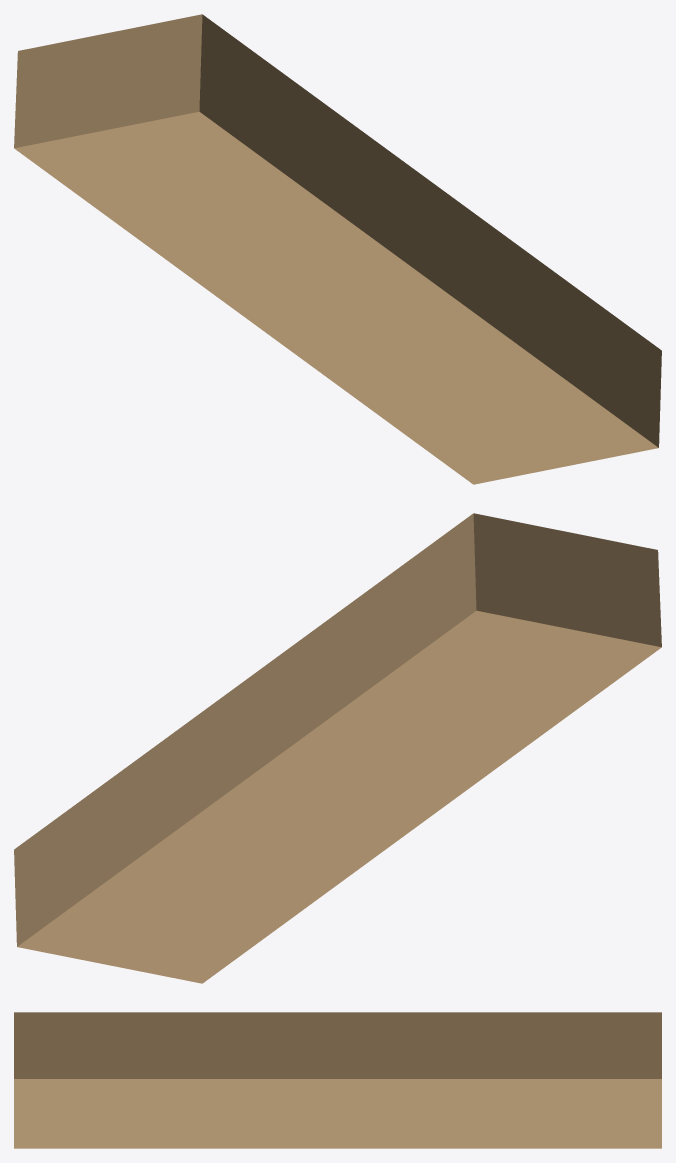
The picture shows the model from 3 angles, top to bottom: view 1: azimuth 30°, elevation 25°; view 2: azimuth 150°, elevation 25°; view 3: azimuth 270°, elevation 25°; orthographic projection. The views are drawn at different scales.
Visible parts, largest first — view 1: 0_2_3_2_3_3_2_3_1_3_0; view 2: 0_2_3_2_3_3_2_3_1_3_0; view 3: 0_2_3_2_3_3_2_3_1_3_0.
Boxes of the visible parts, x1,y1,x2,y2 form: 0_2_3_2_3_3_2_3_1_3_0: (14, 14, 661, 484); 0_2_3_2_3_3_2_3_1_3_0: (14, 513, 661, 983); 0_2_3_2_3_3_2_3_1_3_0: (14, 1012, 661, 1148).
Bounding box in the file's own units: 6.39 × 3.4 × 27.
